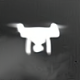plane: (6, 22, 68, 57)
